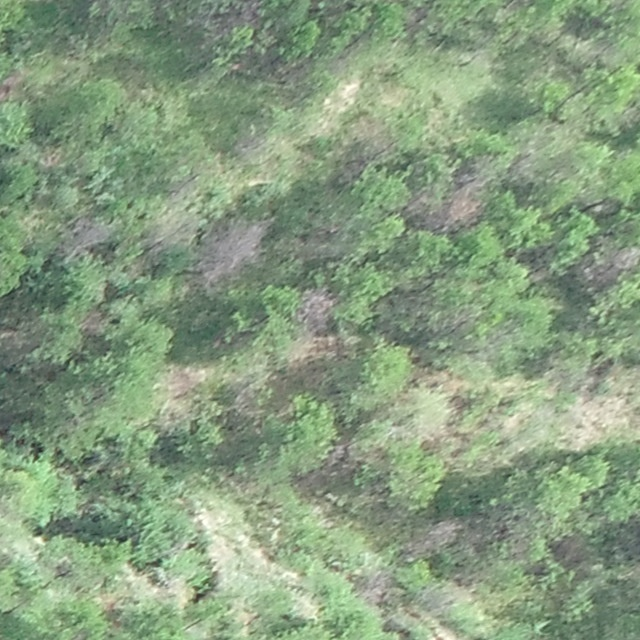unhealthy: (202, 216, 273, 283), (557, 395, 626, 452), (577, 246, 640, 286), (152, 208, 203, 249), (444, 183, 484, 233), (212, 0, 266, 31), (290, 333, 339, 366), (163, 362, 208, 396), (486, 405, 535, 436), (295, 286, 338, 318), (411, 369, 460, 397), (359, 564, 395, 601), (121, 562, 159, 597), (160, 572, 194, 610), (69, 221, 112, 248), (402, 185, 432, 222), (161, 398, 190, 436), (426, 521, 463, 550), (0, 67, 31, 101), (163, 173, 200, 197), (491, 375, 528, 397), (324, 443, 351, 472), (80, 308, 106, 335), (94, 591, 122, 614), (37, 147, 62, 169)
